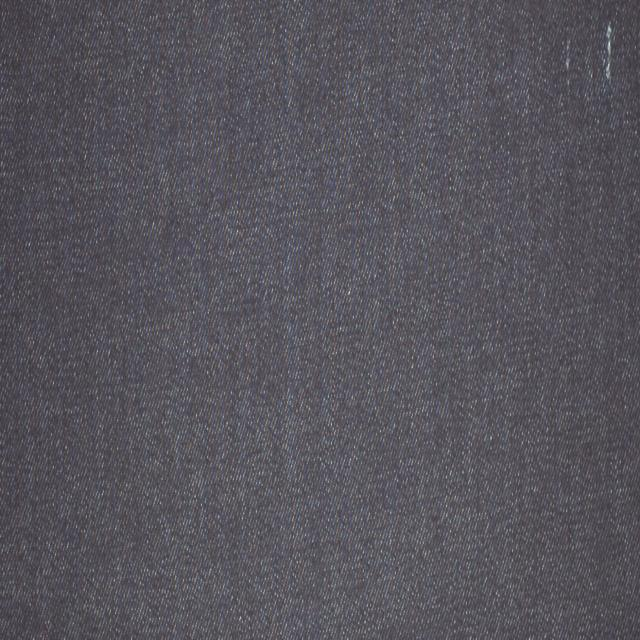Knot: (606, 22, 614, 82)
